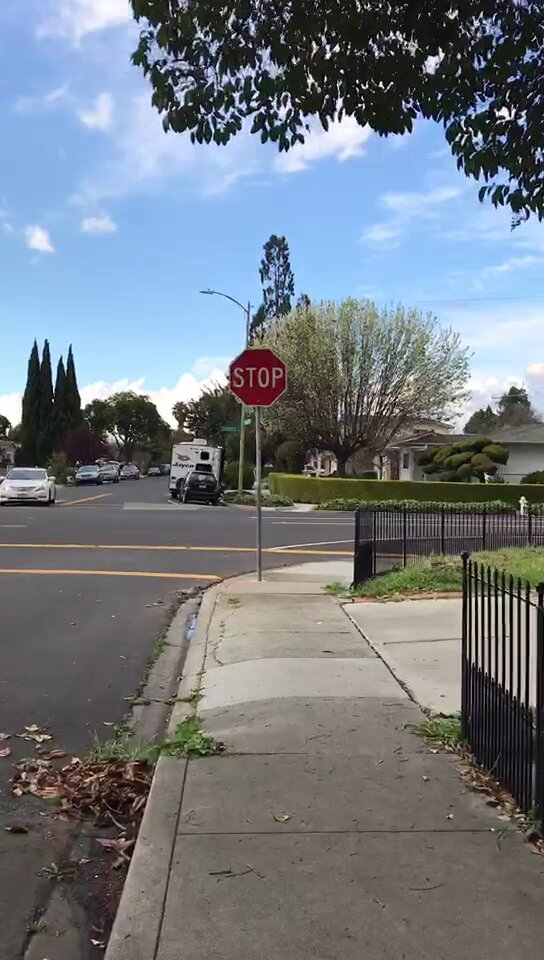stop_sign: (229, 351, 287, 408)
